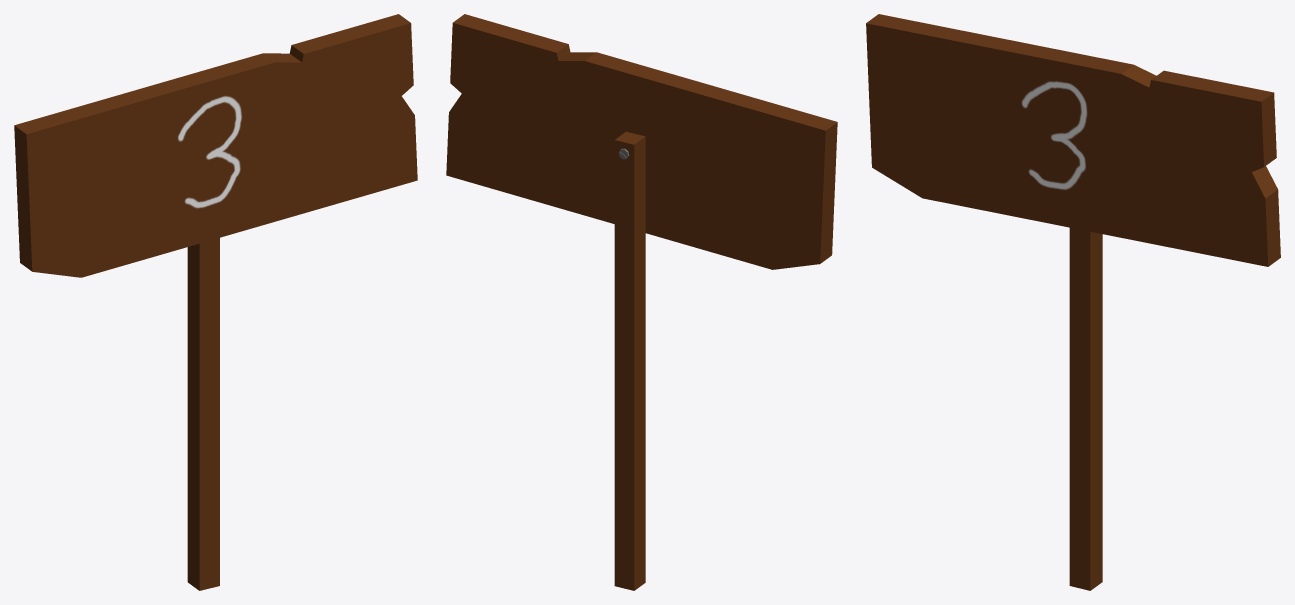
File: sign2_3.glb
The picture shows the model from 3 angles, left to right: view 1: azimuth 30°, elevation 25°; view 2: azimuth 150°, elevation 25°; view 3: azimuth 330°, elevation 25°; orthographic projection. The views are drawn at different scales.
Parts seen in each view (by area): view 1: Sign 2; view 2: Sign 2; view 3: Sign 2.
Boxes of the visible parts, x1,y1,x2,y2 form: Sign 2: (14,14,417,590); Sign 2: (446,14,837,590); Sign 2: (866,14,1280,590).
Size of the model in its own units: 2.03 by 2.62 by 0.228.
Materials: 2 (1 with a texture image).
